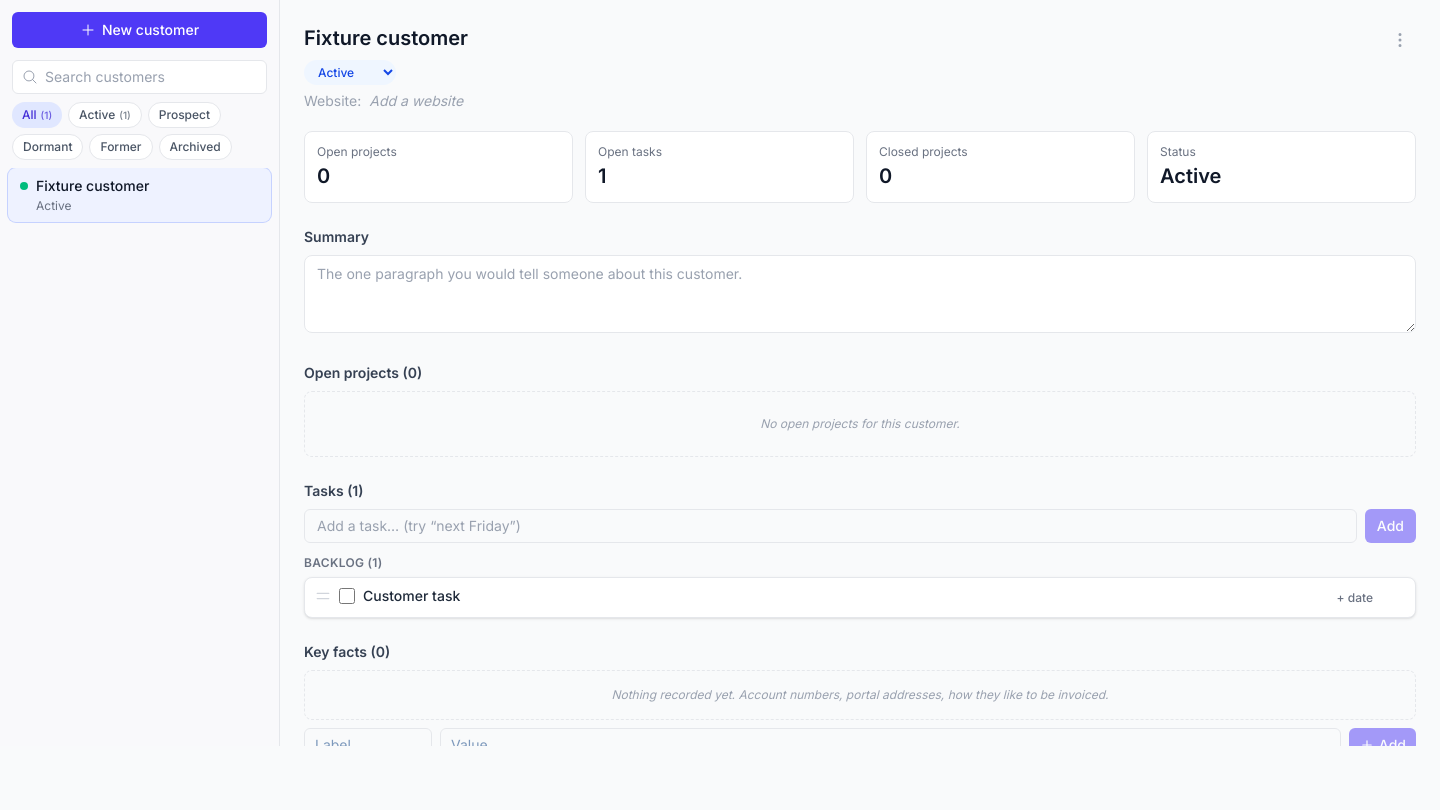
completes a customer task and removes it from the active list
Click the checkbox named "Mark \"Customer task\" complete" at (347, 596), box x1=339 y1=588 x2=355 y2=604
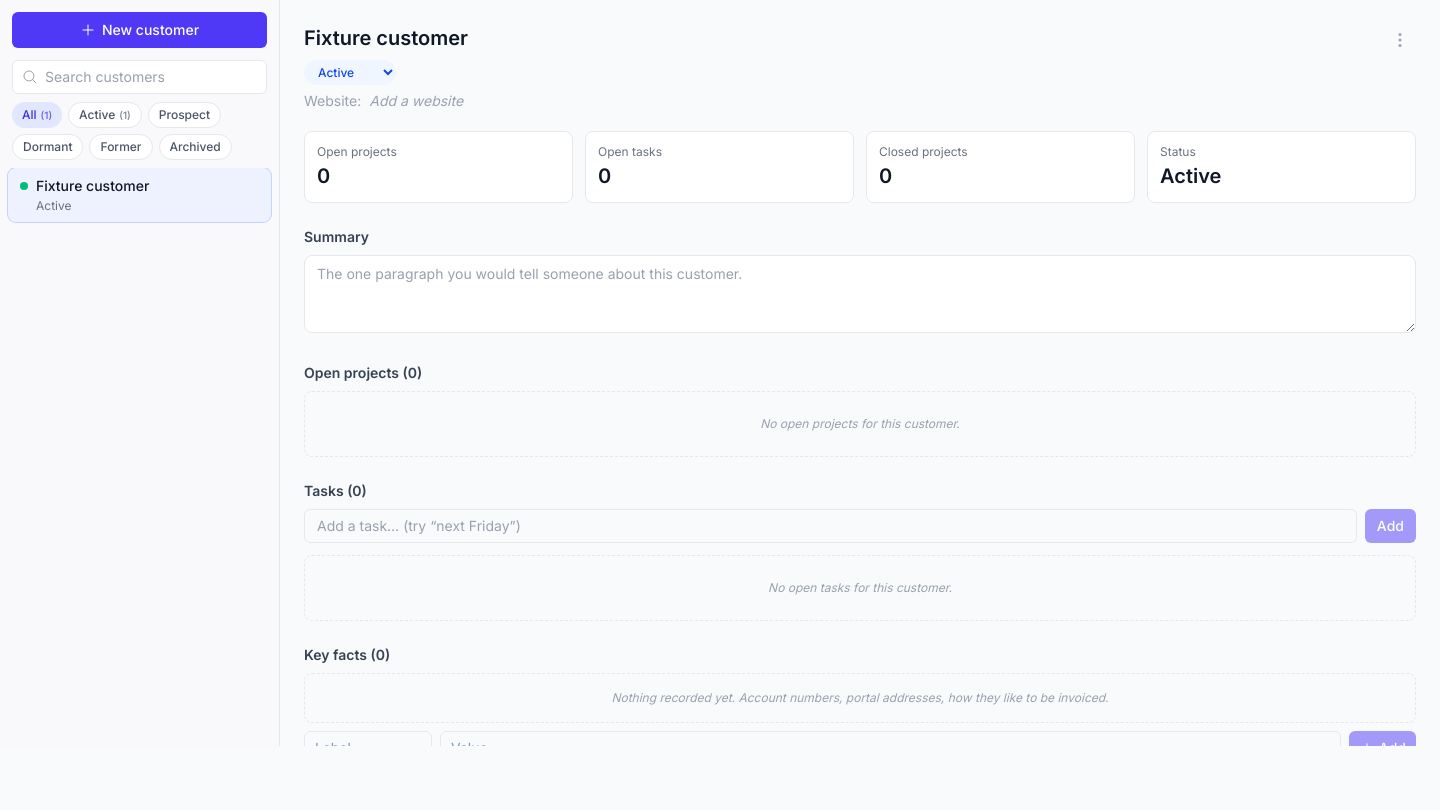
Result: the button "Customer task" is gone
